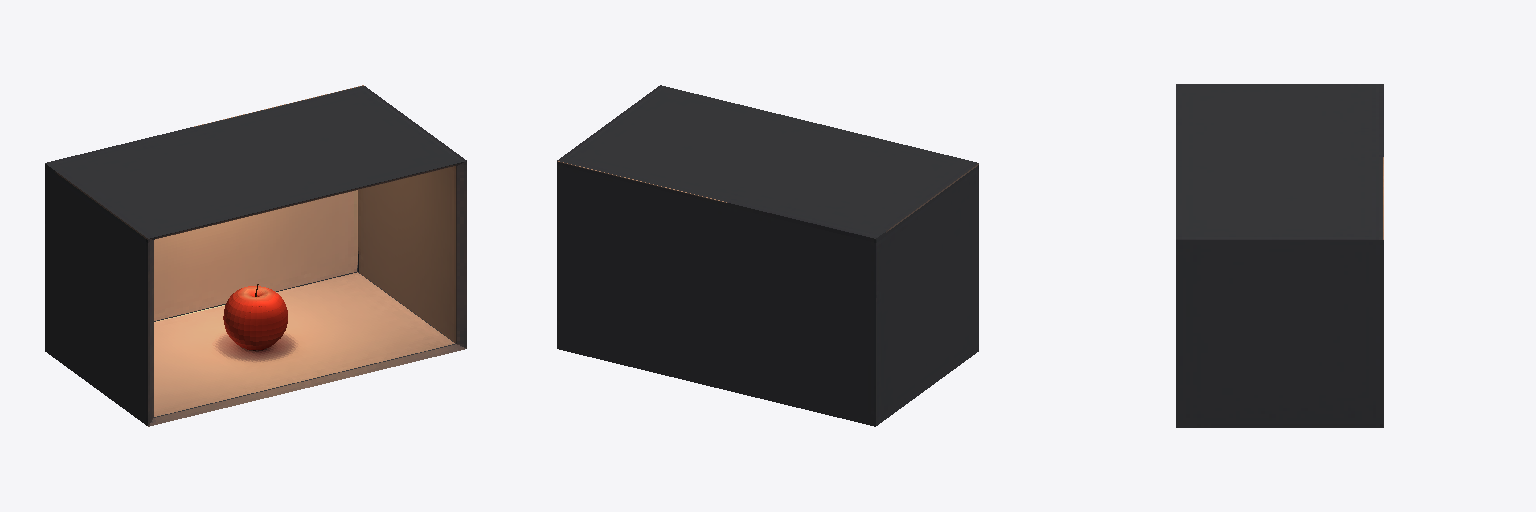
3 views of the same model, side by side, from view 1: azimuth 30°, elevation 25°; view 2: azimuth 150°, elevation 25°; view 3: azimuth 270°, elevation 25° (orthographic).
Visible parts, largest first — view 1: Cube, Cube.001; view 2: Cube; view 3: Cube.
Part boxes in pixels (bbox=[...]): Cube: bbox=[45, 85, 466, 426]; Cube.001: bbox=[223, 284, 287, 349]; Cube: bbox=[557, 85, 978, 426]; Cube: bbox=[1176, 84, 1383, 427].
Size of the model in its own units: 3.75 by 2.11 by 2.11.
3 materials, 1 textured.